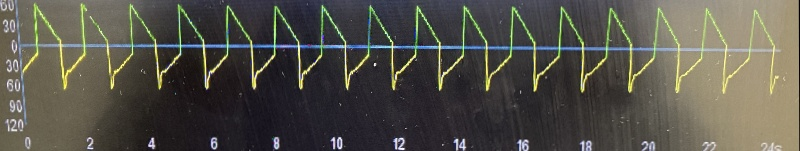peepi: (12, 0, 788, 98)
